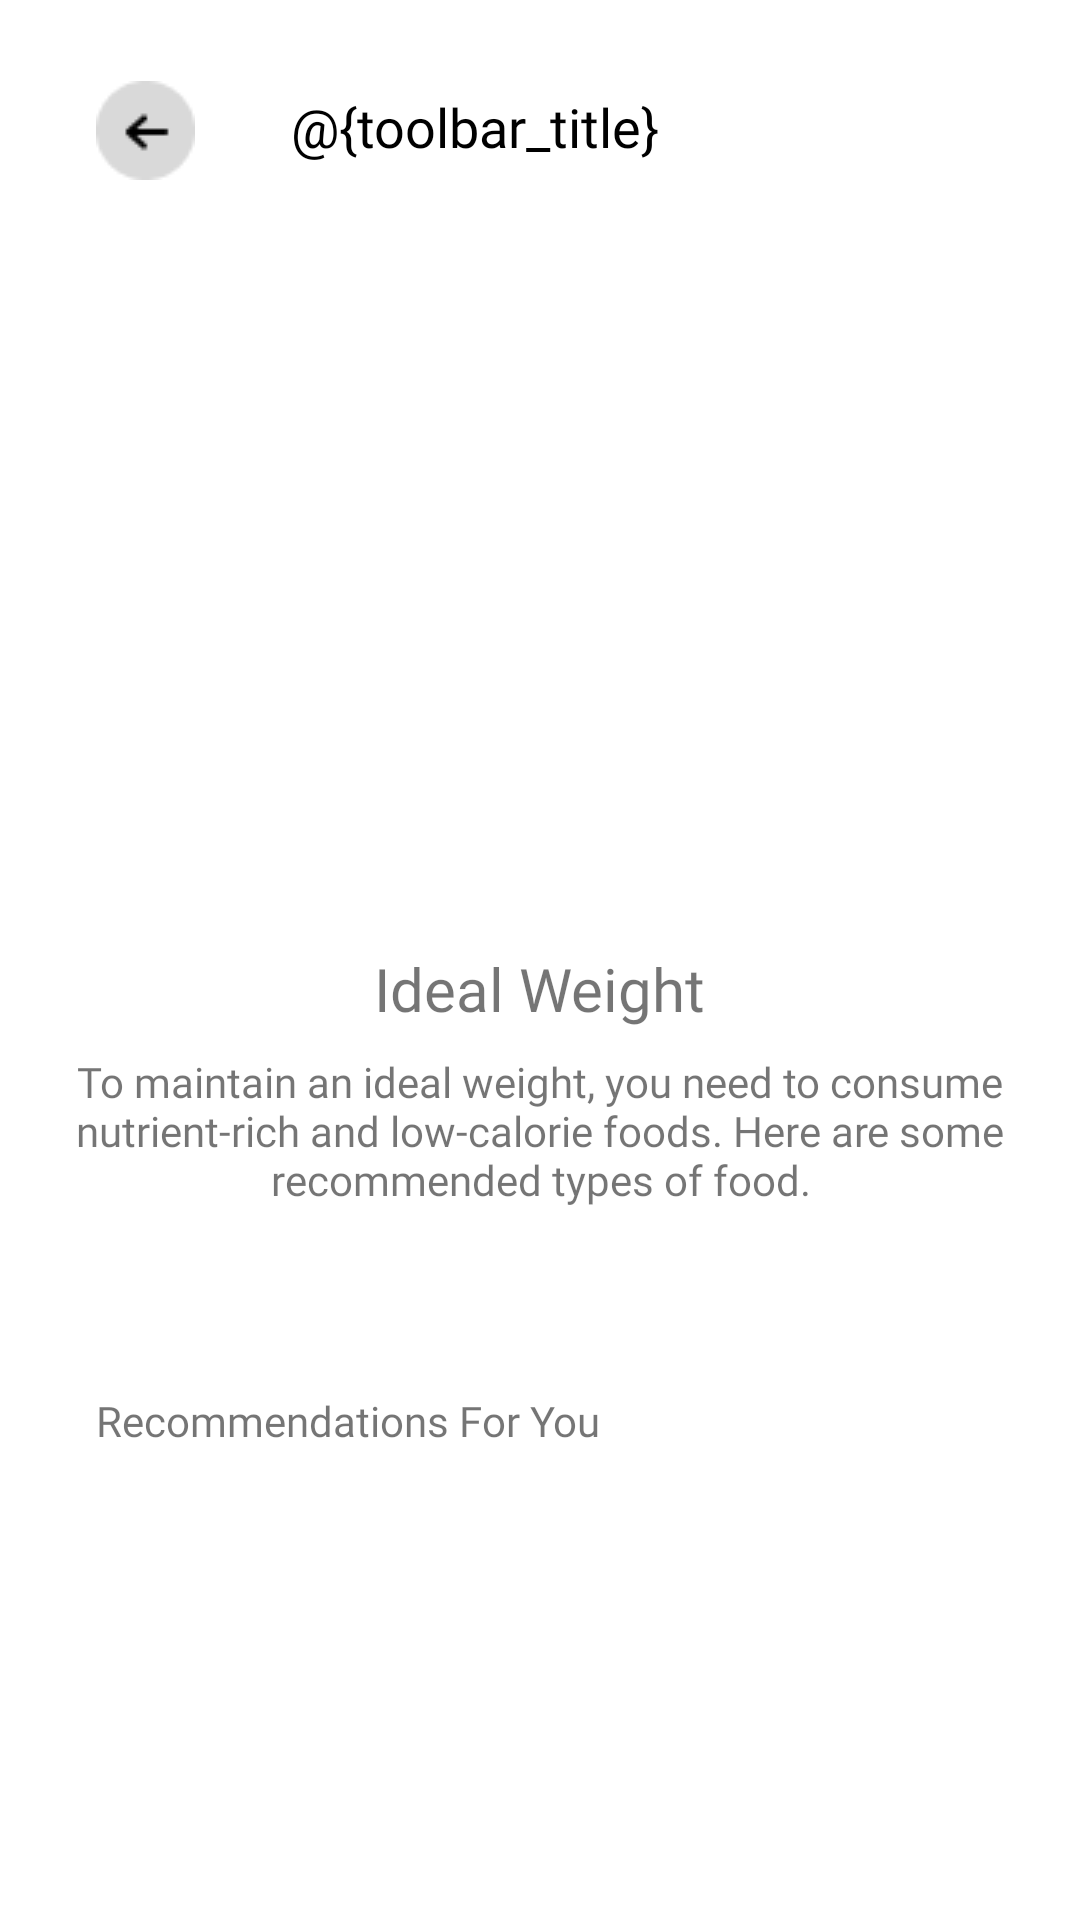

Named icons in this screenshot (1080x1920) and their bounding boxes, BBox(x1, y1, x2, y2):
back: BBox(96, 81, 195, 180)
